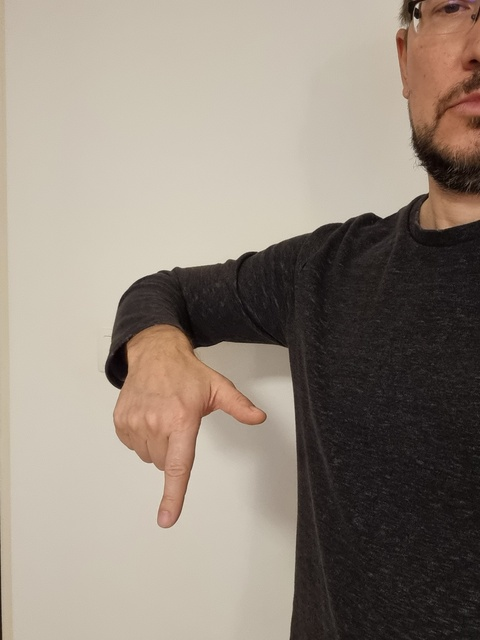GestDown: (112, 376, 265, 527)
